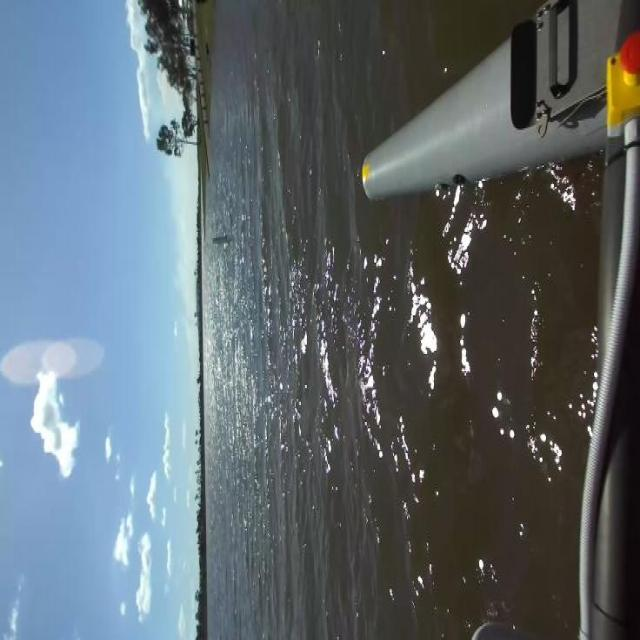White_Buoy: (203, 230, 239, 252)
